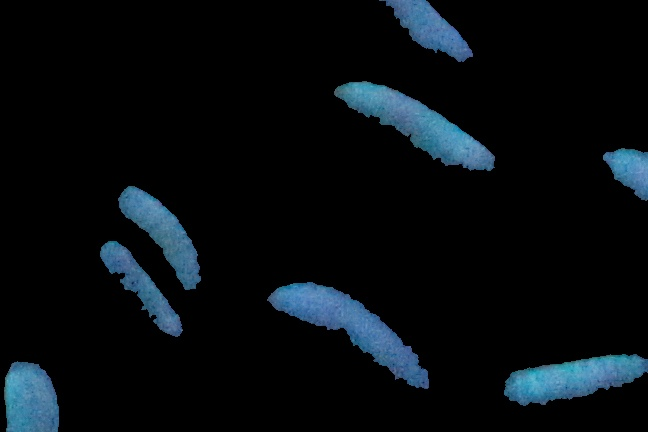larvae: (260, 274, 429, 398), (327, 80, 500, 186), (113, 176, 204, 297), (90, 236, 180, 339), (488, 352, 648, 407), (367, 1, 473, 63), (1, 352, 62, 432)
